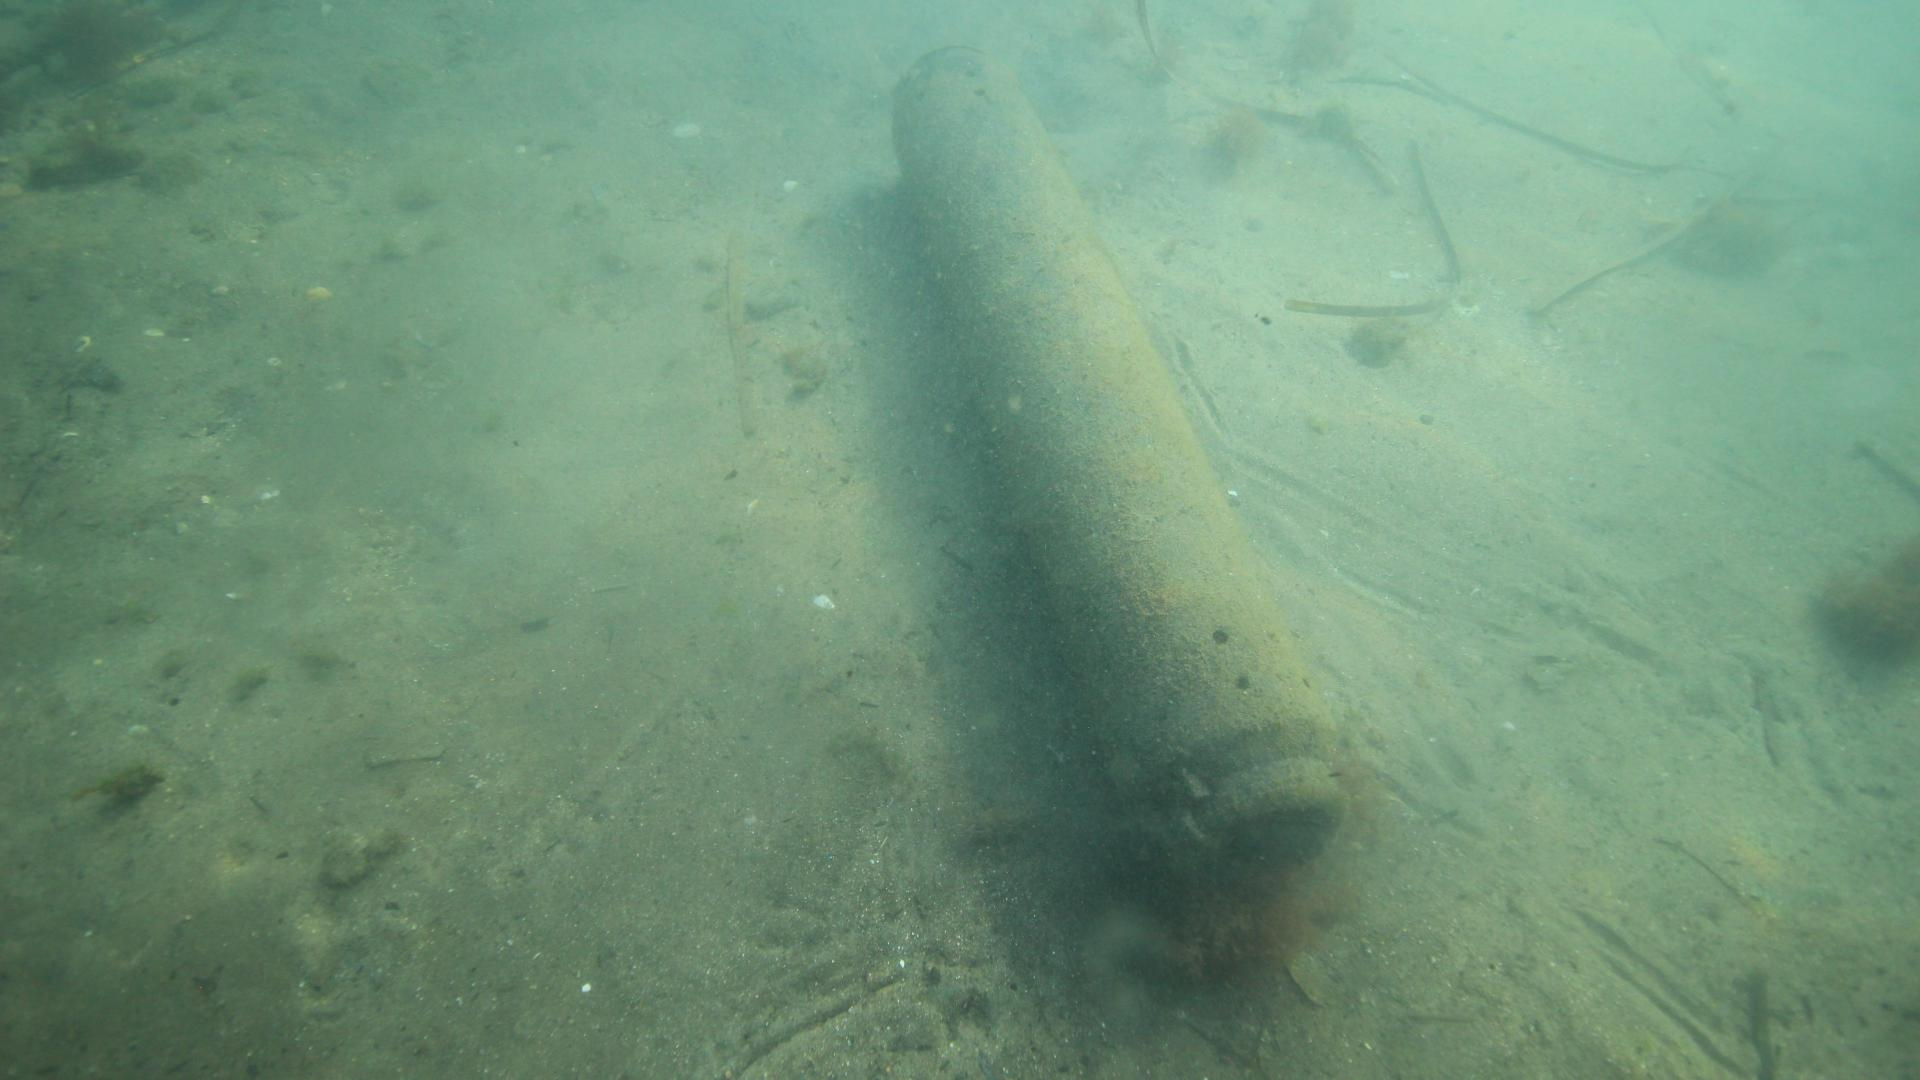eel fish trap: (889, 37, 1346, 893)
